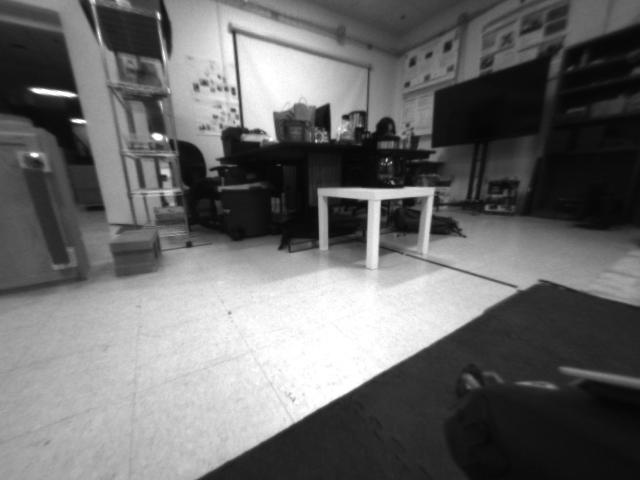coffee_pot: (360, 130, 404, 191)
